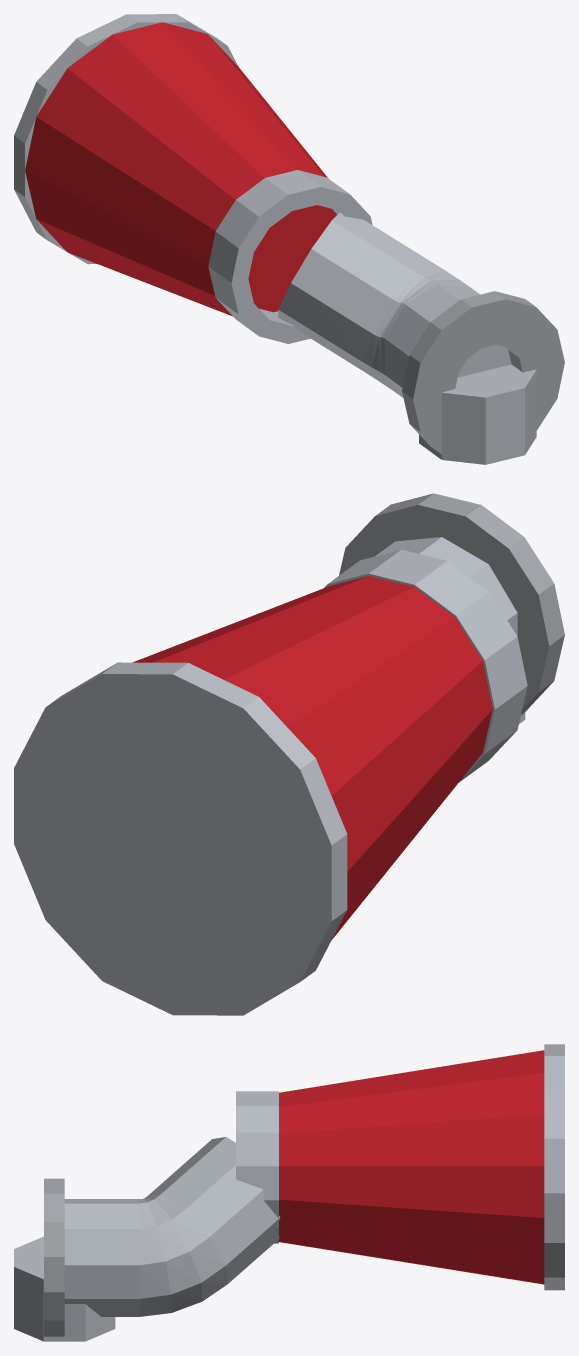
The model's file is kaze_gt.glb.
3 views of the same model, one above another, from view 1: azimuth 30°, elevation 25°; view 2: azimuth 150°, elevation 25°; view 3: azimuth 270°, elevation 25° (orthographic). The views are drawn at different scales.
Parts seen in each view (by area): view 1: model; view 2: model; view 3: model.
Boxes of the visible parts, box(x1,y1,x2,y2) form: model: box(14, 14, 564, 464); model: box(14, 493, 564, 1015); model: box(14, 1044, 564, 1341).
Bounding box in the file's own units: 0.1672 × 0.1528 × 0.3216.
Materials: 2 (1 with a texture image).
